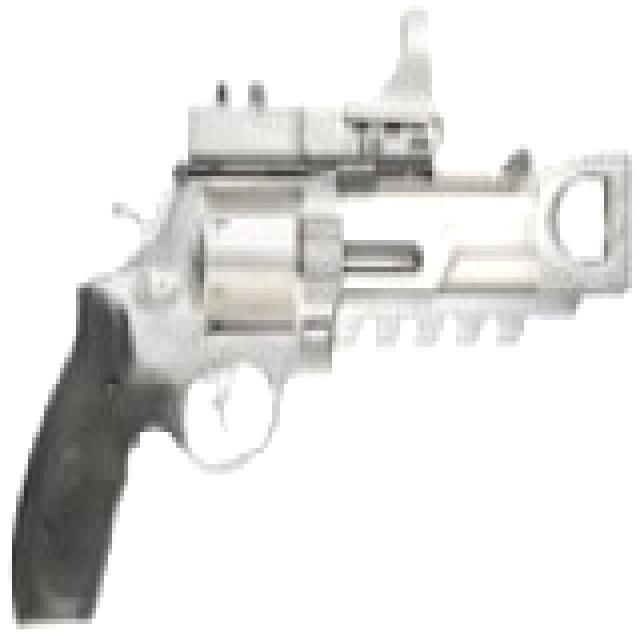pistol: (12, 117, 632, 624)
